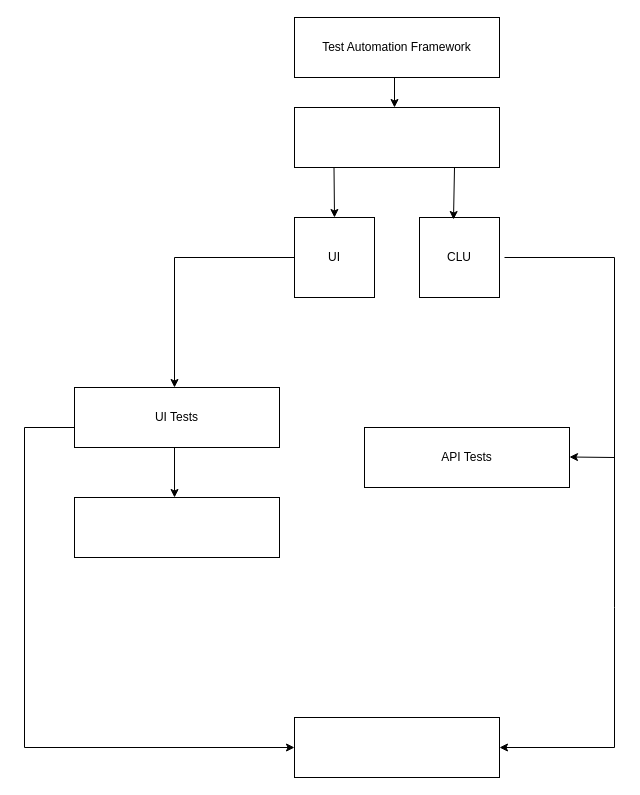
This 640x795 diagram has some shape labels left out. The shapes that lost their labels are listed below. From the top down, each one's centre as x and y in pixels, then its label:
At (x=397, y=137): "Test Script Management".
At (x=177, y=527): "Emulator/Device".
At (x=397, y=747): "Test Reporting & Logging".
